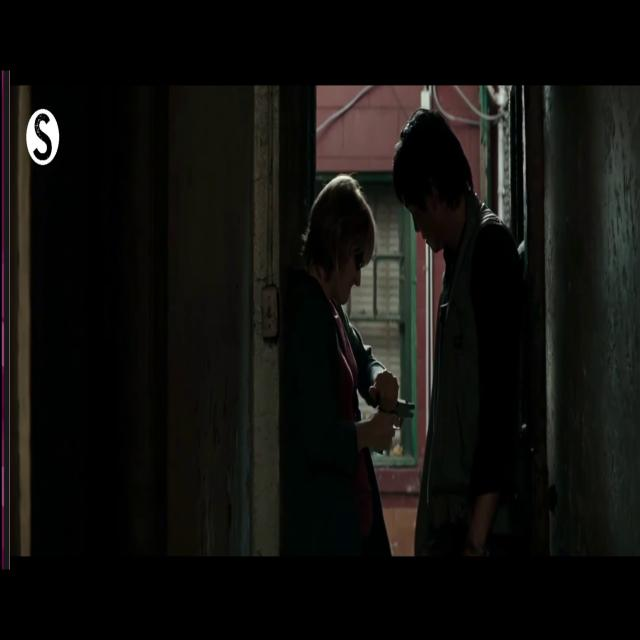weapons: (368, 370, 422, 460)
